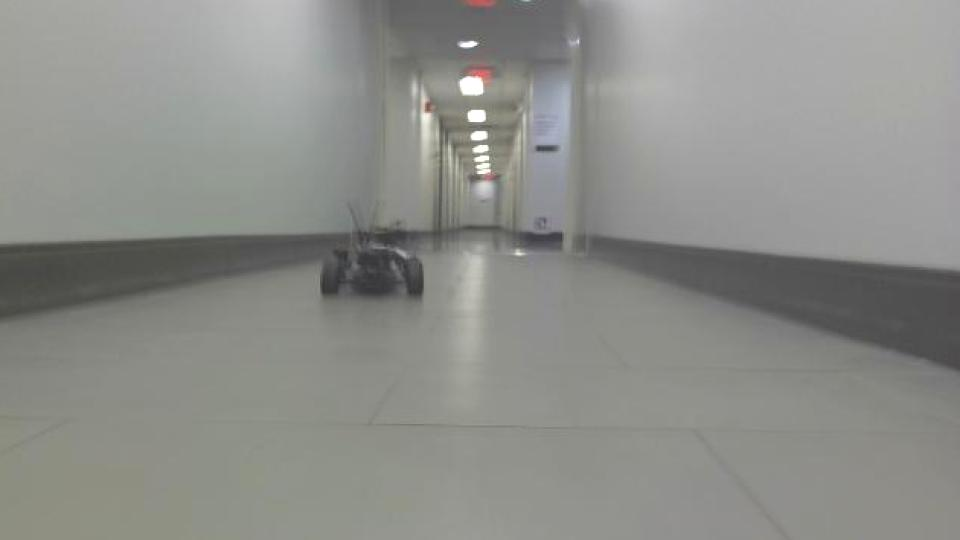car: (314, 197, 427, 300)
